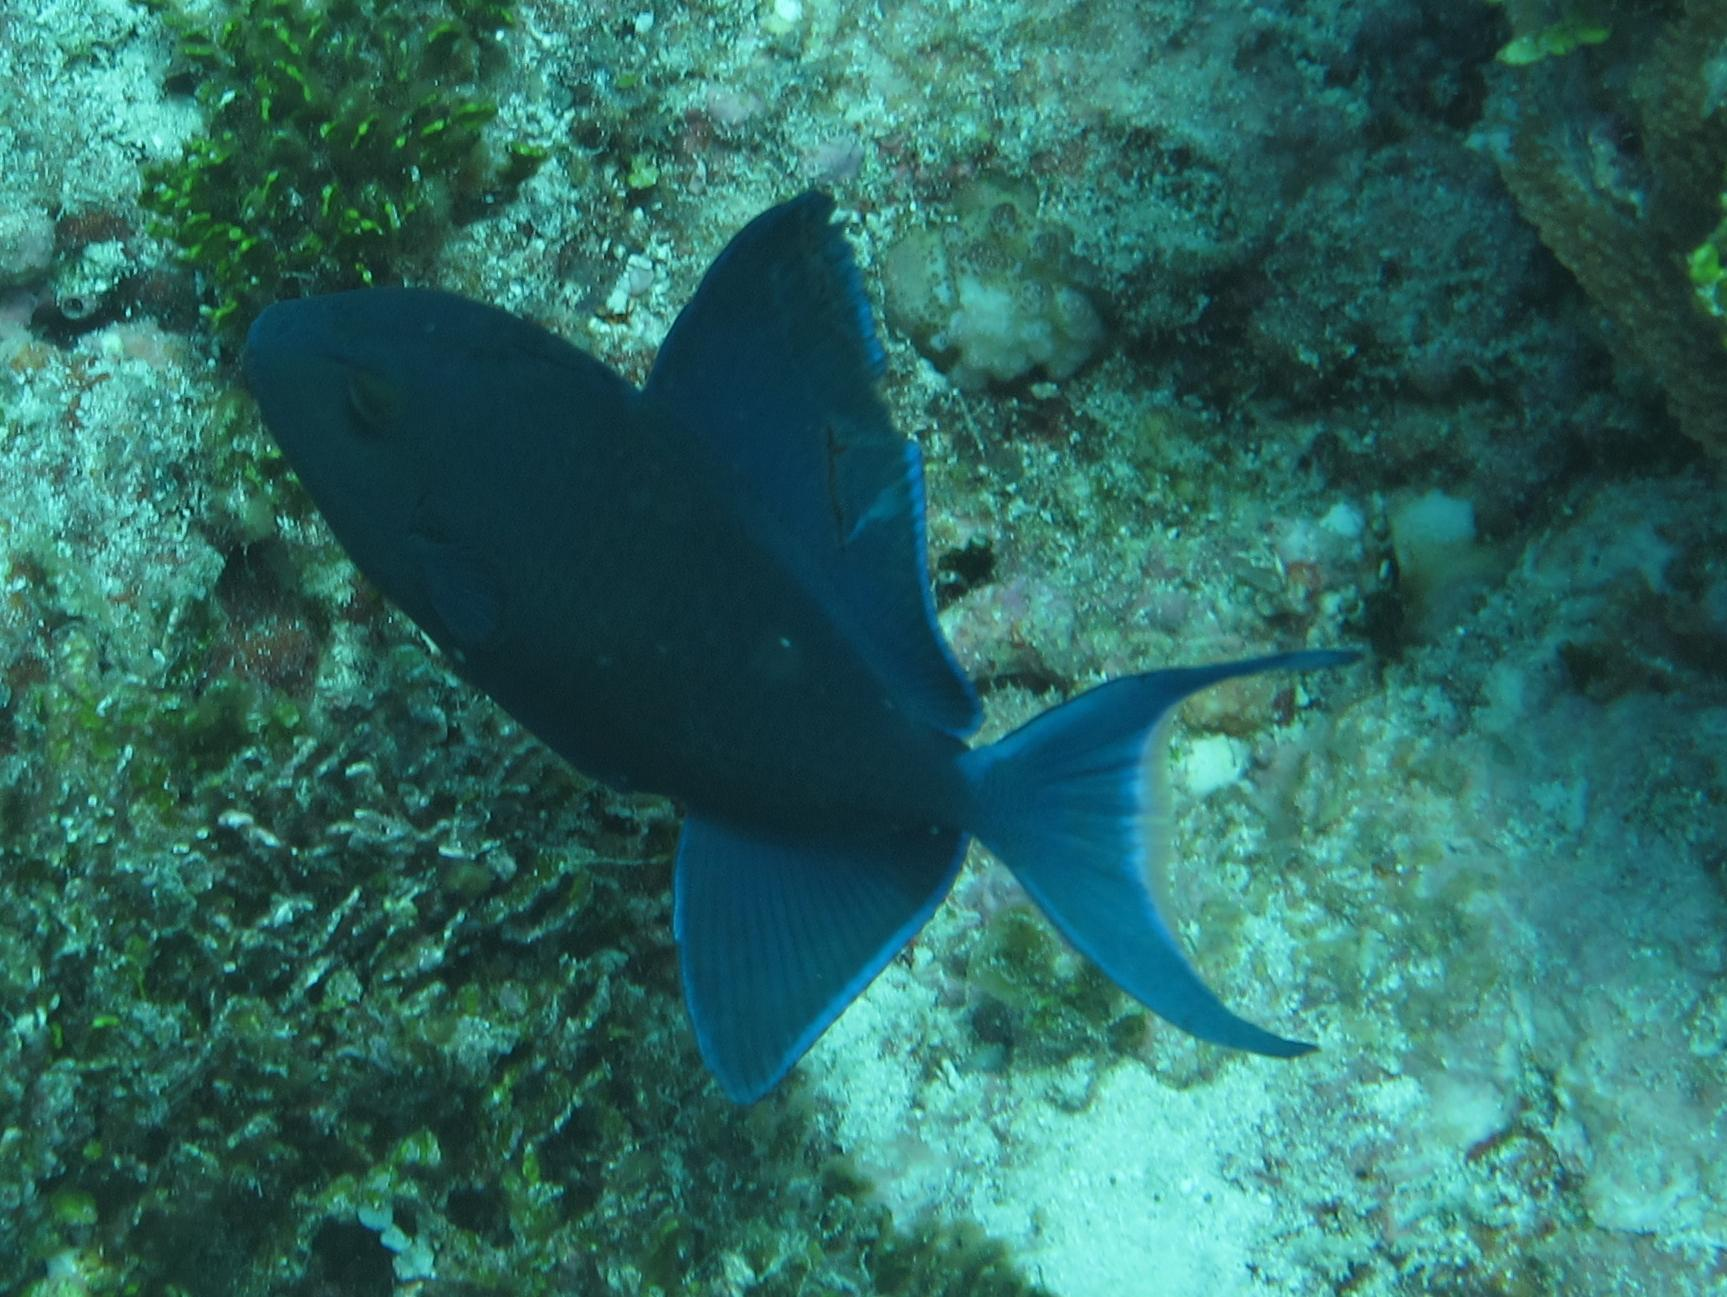Odonus niger: (192, 173, 1485, 1123)
